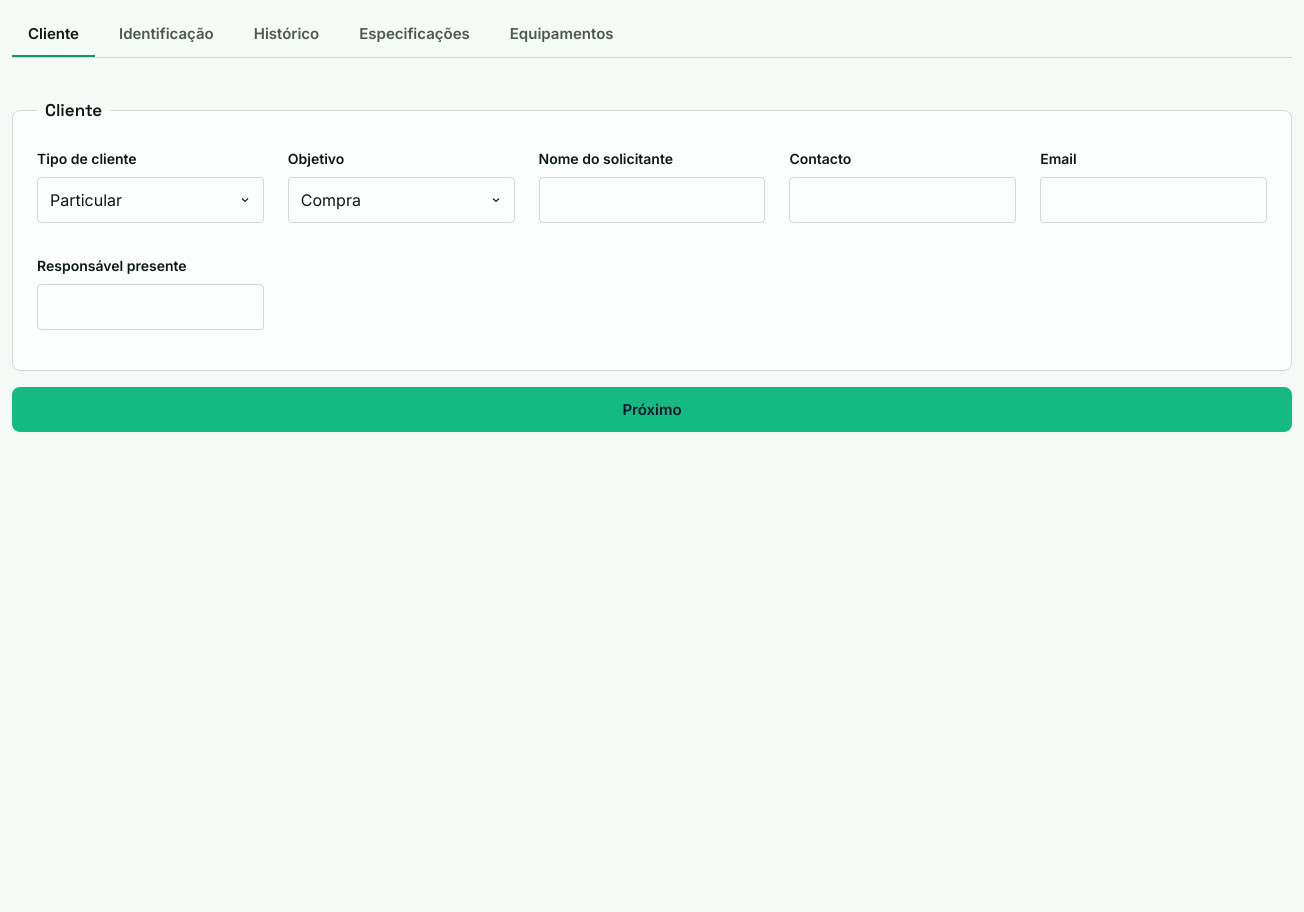
Test: NewInspectionForm › shows the anotações field for indícios de adulteração only when 'Sim' is picked
Click the tab "Histórico" at (286, 34), box left=238, top=12, right=335, bottom=57
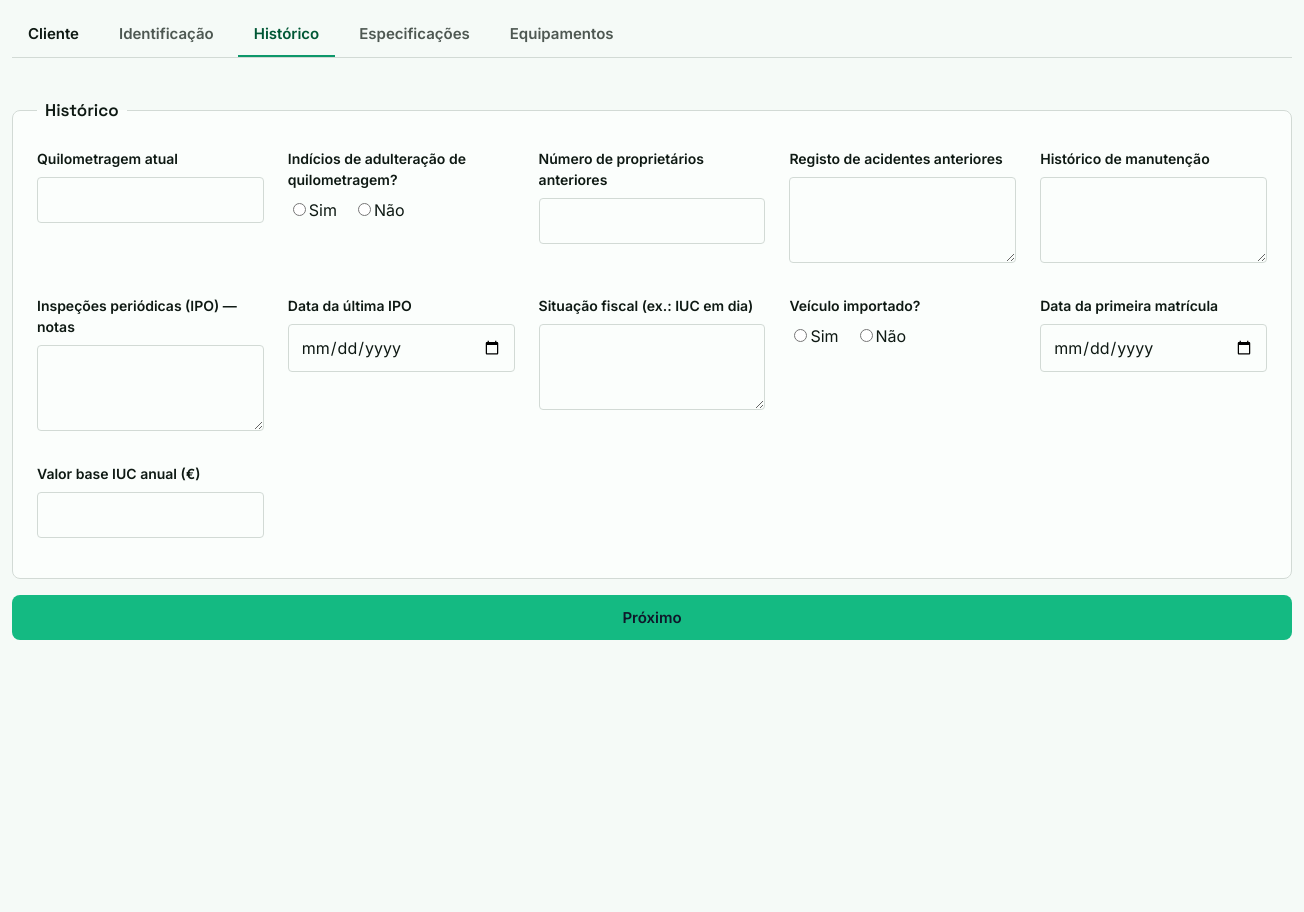
Expected: the field labelled "Anotações / Detalhes dos indícios de adulteração" is not shown
Click the radio button with aria-label "Sim (Indícios de adulteração de quilometragem?)" at (299, 209), box left=293, top=202, right=306, bottom=216
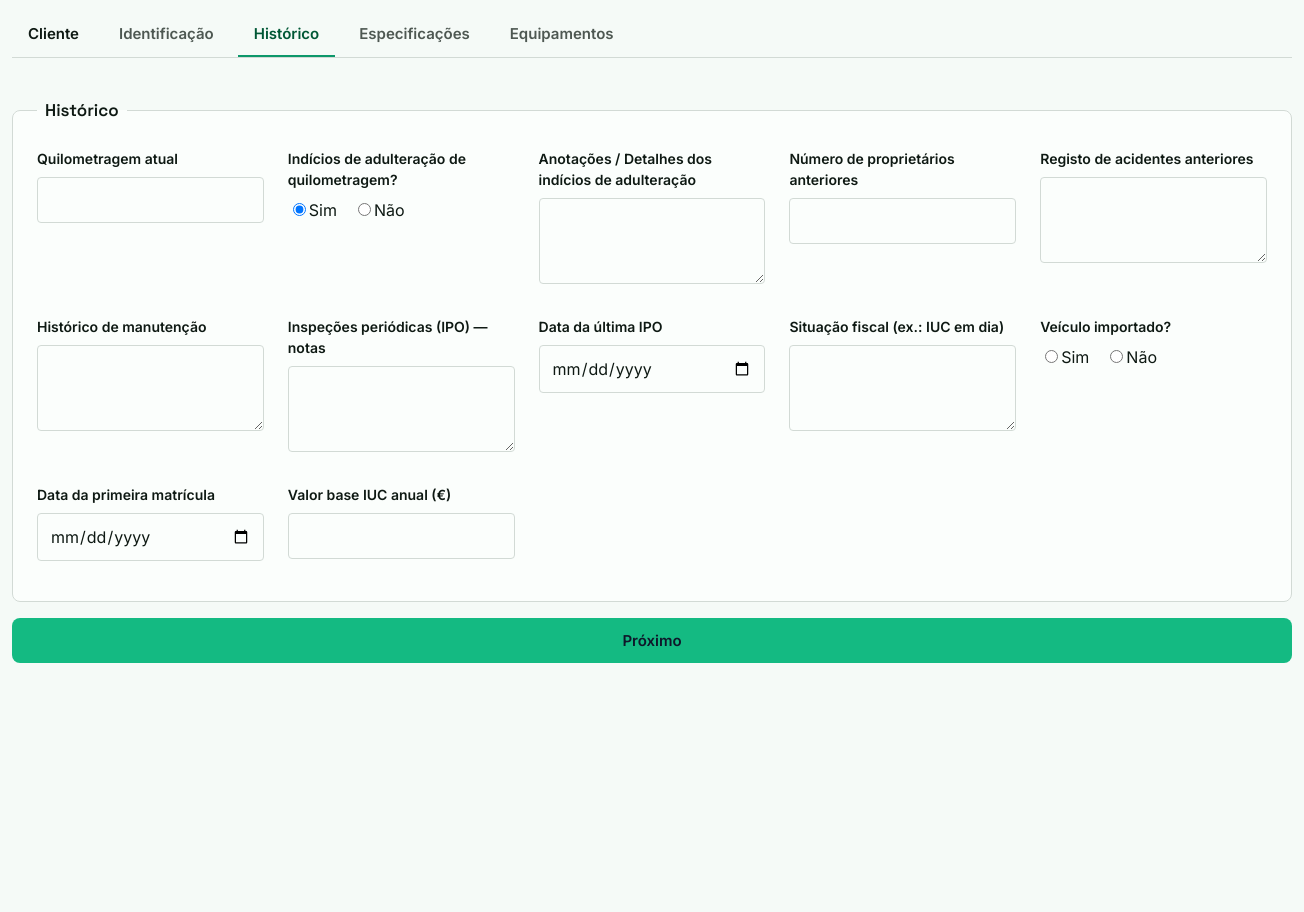
Result: the text box labelled "Anotações / Detalhes dos indícios de adulteração" is shown at left=539, top=198, right=765, bottom=284
